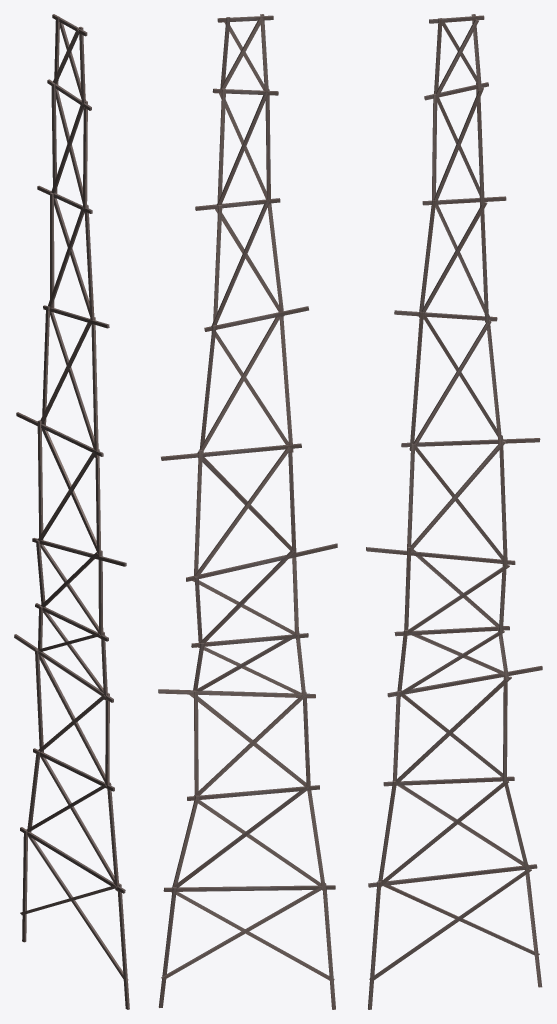
Rendered from pylon_001.fbx.
3 views of the same model, side by side, from view 1: azimuth 90°, elevation 25°; view 2: azimuth 150°, elevation 25°; view 3: azimuth 330°, elevation 25° (orthographic). The views are drawn at different scales.
Parts seen in each view (by area): view 1: pylon.001; view 2: pylon.001; view 3: pylon.001.
Part boxes in pixels (<box>): pylon.001: <box>14,14,129,1009</box>; pylon.001: <box>158,14,337,1009</box>; pylon.001: <box>366,14,542,1009</box>.
Size of the model in its own units: 201 by 1521 by 166.
